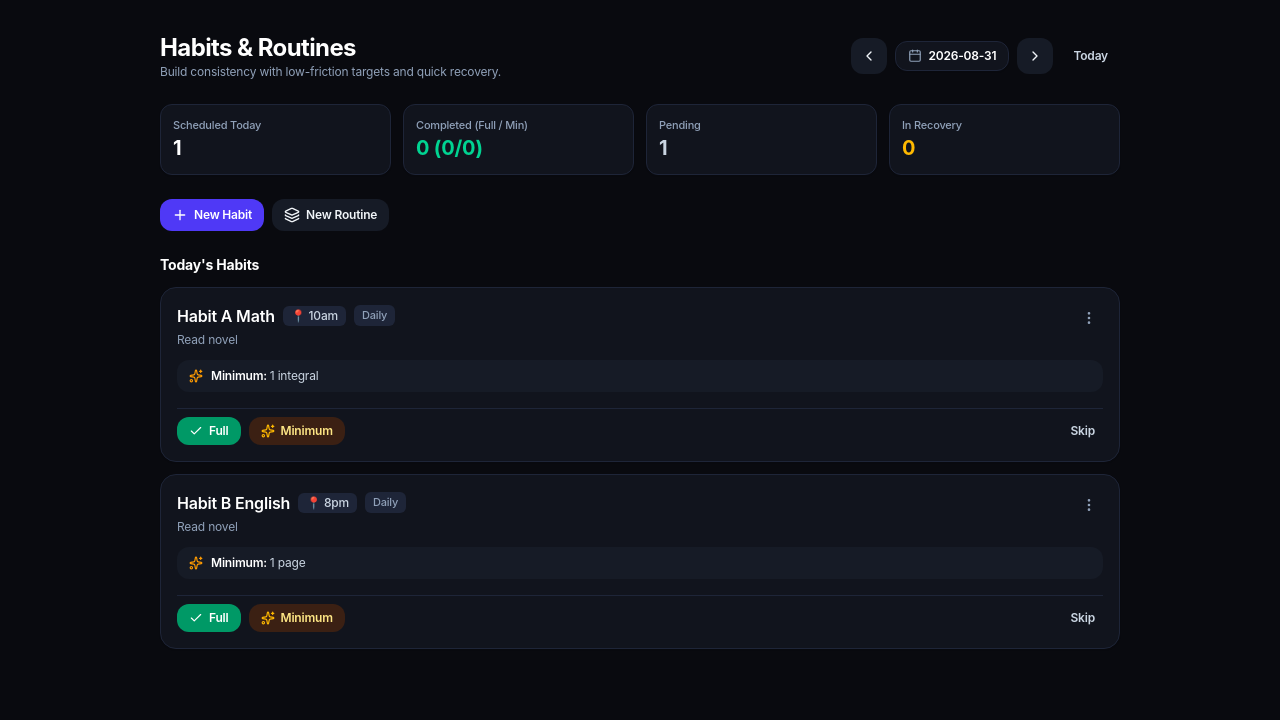
Test: HabitsScreen UI Component › 5. FIX HABIT FORM: reload -> click Edit existing Habit shows persisted values; switching from Habit A to B shows Habit B
// Click options menu on Habit A
Click the button named "Habit options" in the row of "10am". click: (1089, 318)
box: [1075,304,1103,332]
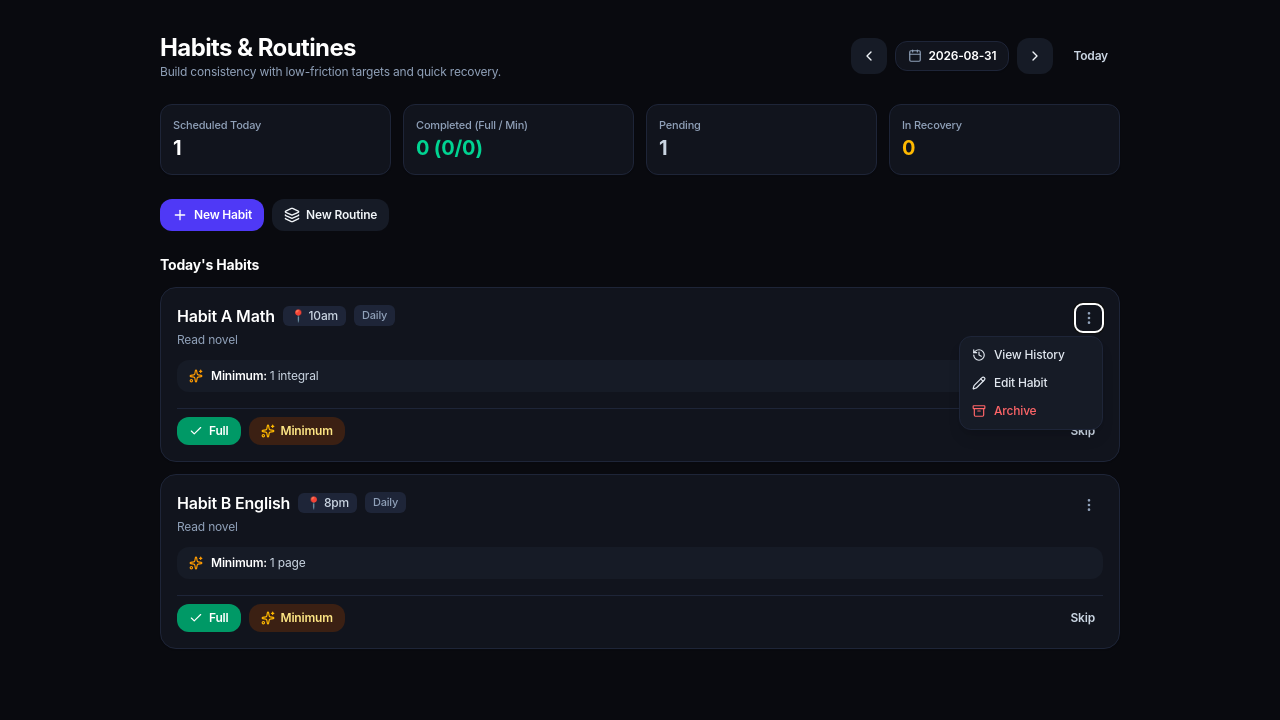
// Click Edit Habit
Click the button "Edit Habit". click: (1031, 382)
box: [960,368,1102,396]
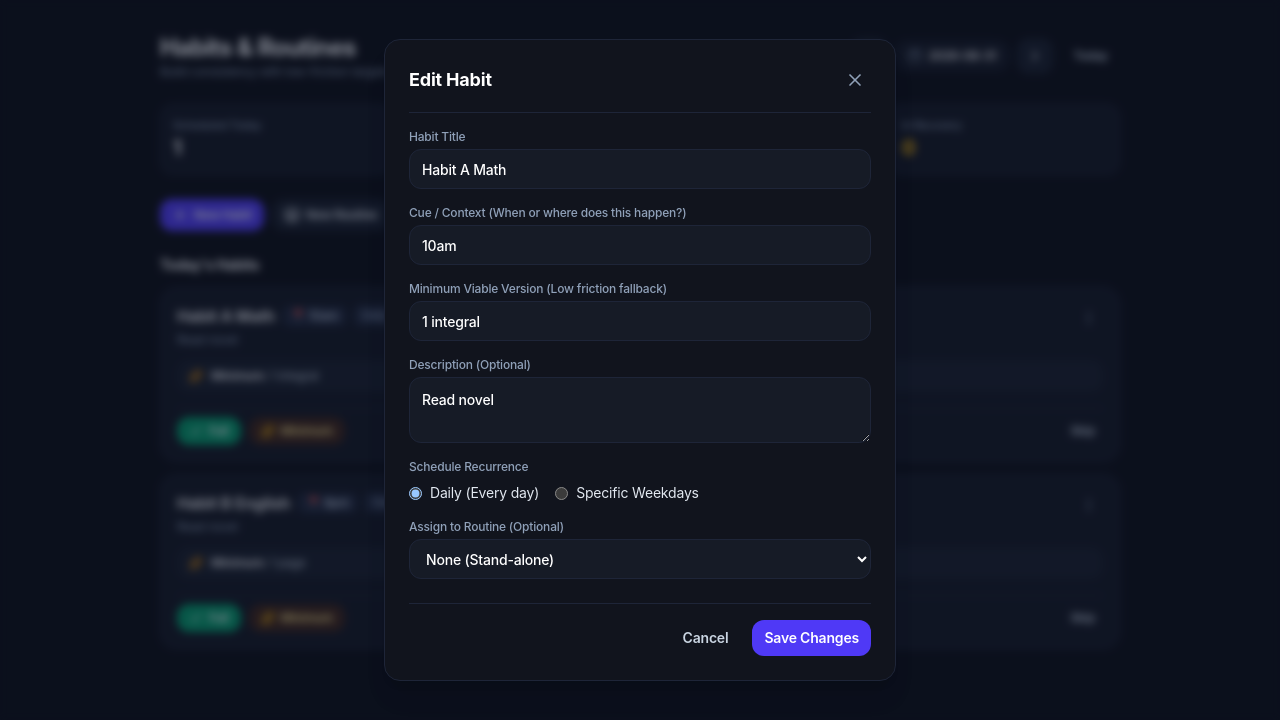
Expected: the heading "Edit Habit" is shown, [409,66,492,94]
Expected: the field labelled "Habit Title" holds "Habit A Math", [409,149,871,189]
Expected: the field labelled "Cue / Context (When or where does this happen?)" holds "10am", [409,225,871,265]
// Close modal
Click the button "Cancel". click: (705, 638)
box: [670,620,740,656]
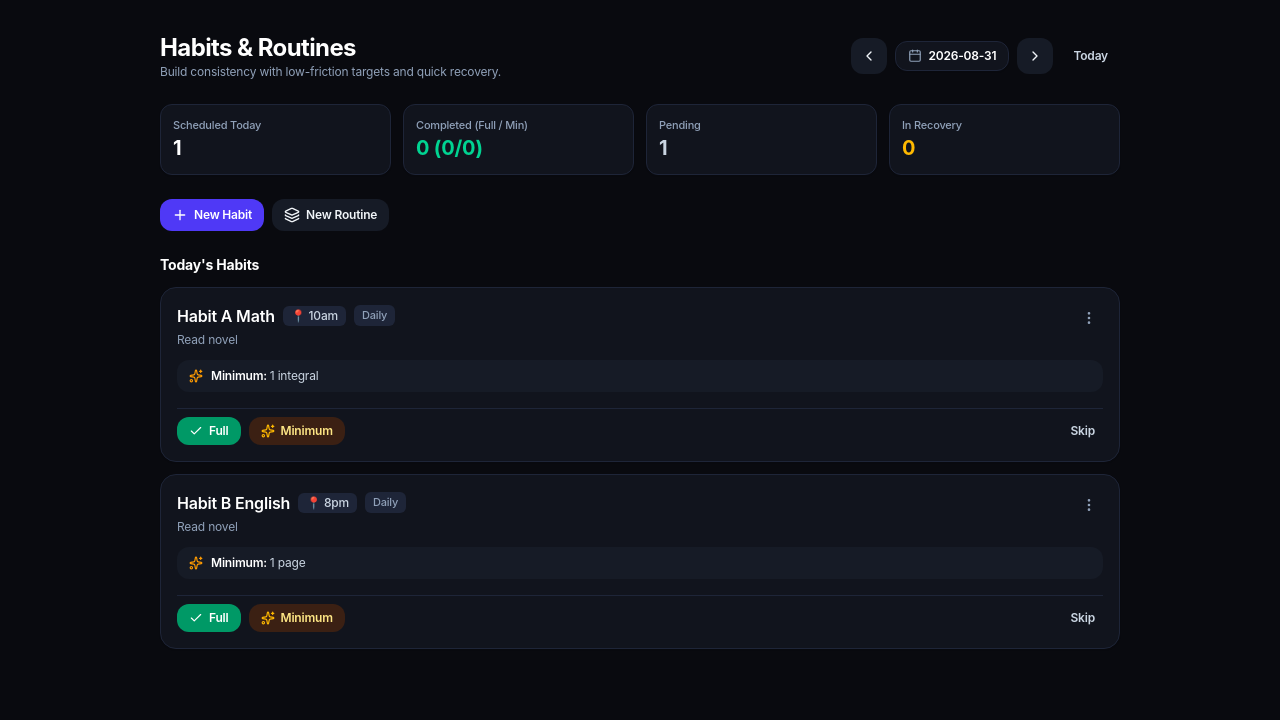
// Open options menu on Habit B
Click the button named "Habit options" in the row of "8pm". click: (1089, 504)
box: [1075,490,1103,518]
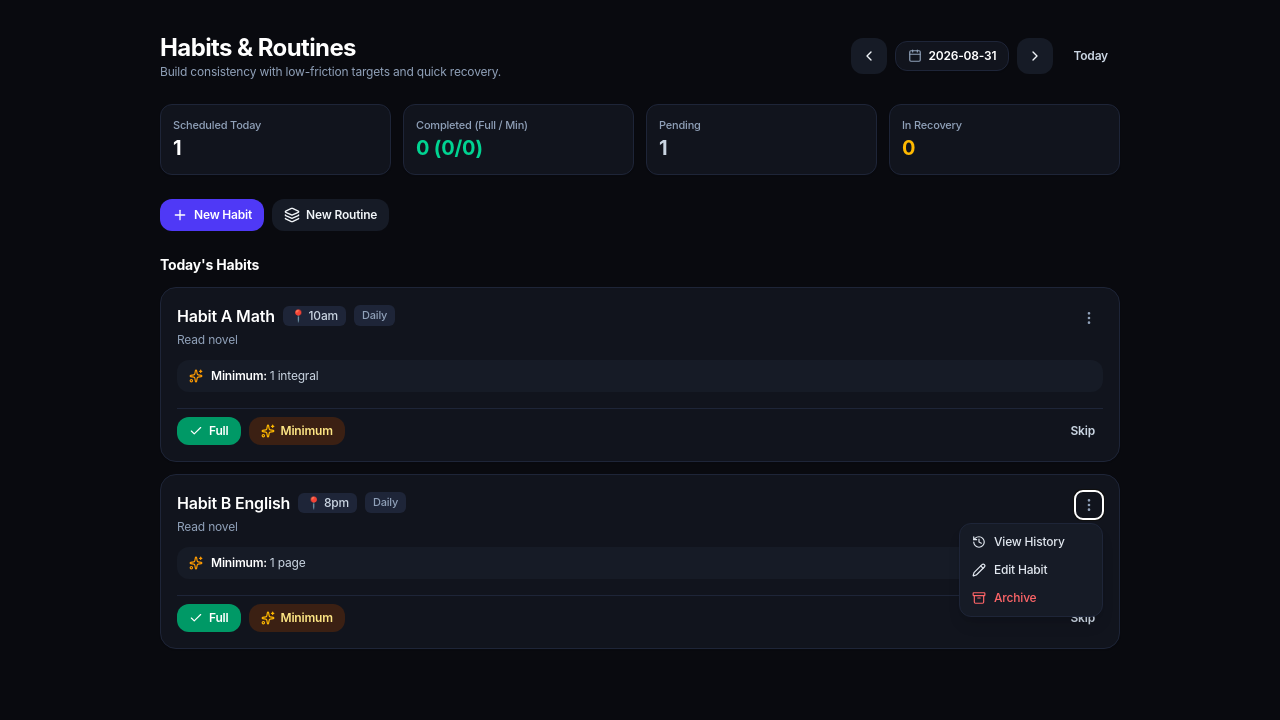
Click the button "Edit Habit". click: (1031, 570)
box: [960,556,1102,584]
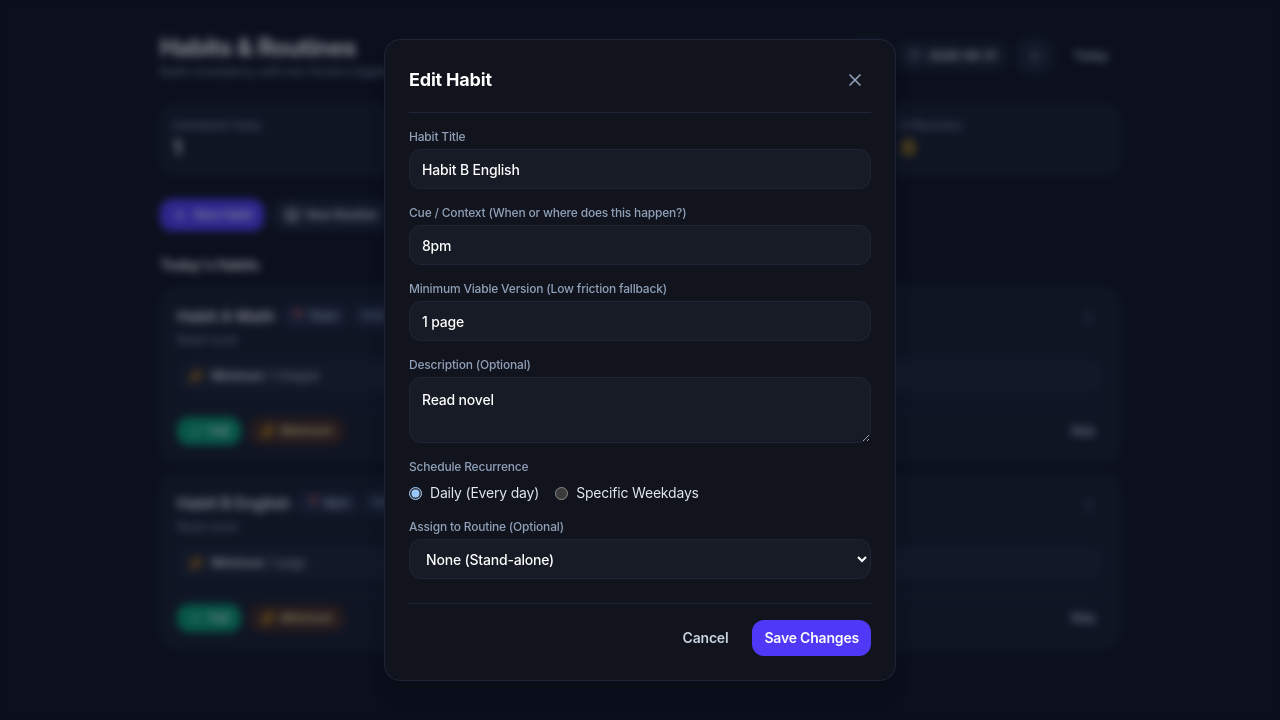
Expected: the field labelled "Habit Title" holds "Habit B English", [409,149,871,189]
Expected: the field labelled "Cue / Context (When or where does this happen?)" holds "8pm", [409,225,871,265]
Expected: the field labelled "Minimum Viable Version (Low friction fallback)" holds "1 page", [409,301,871,341]
